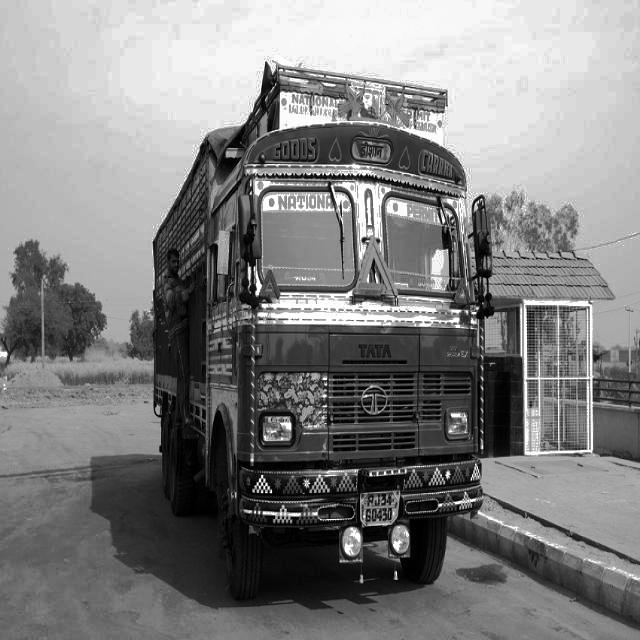HCV: (128, 52, 518, 595)
